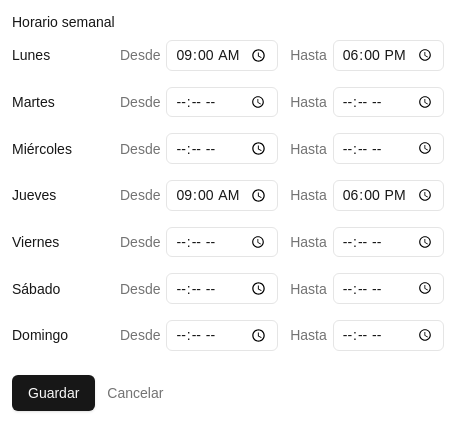
WeeklyScheduleForm - submission in flight › should_disable_every_time_field_not_just_the_button
This screenshot has width=461, height=429.
Click the button "Guardar". click: (54, 393)
box: [12,375,95,411]
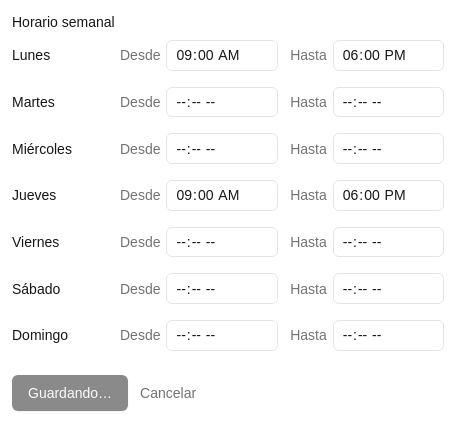
Result: the element that starts with "Horario semanal" is disabled
Result: the button "Guardando…" is disabled at [12,375,128,411]
